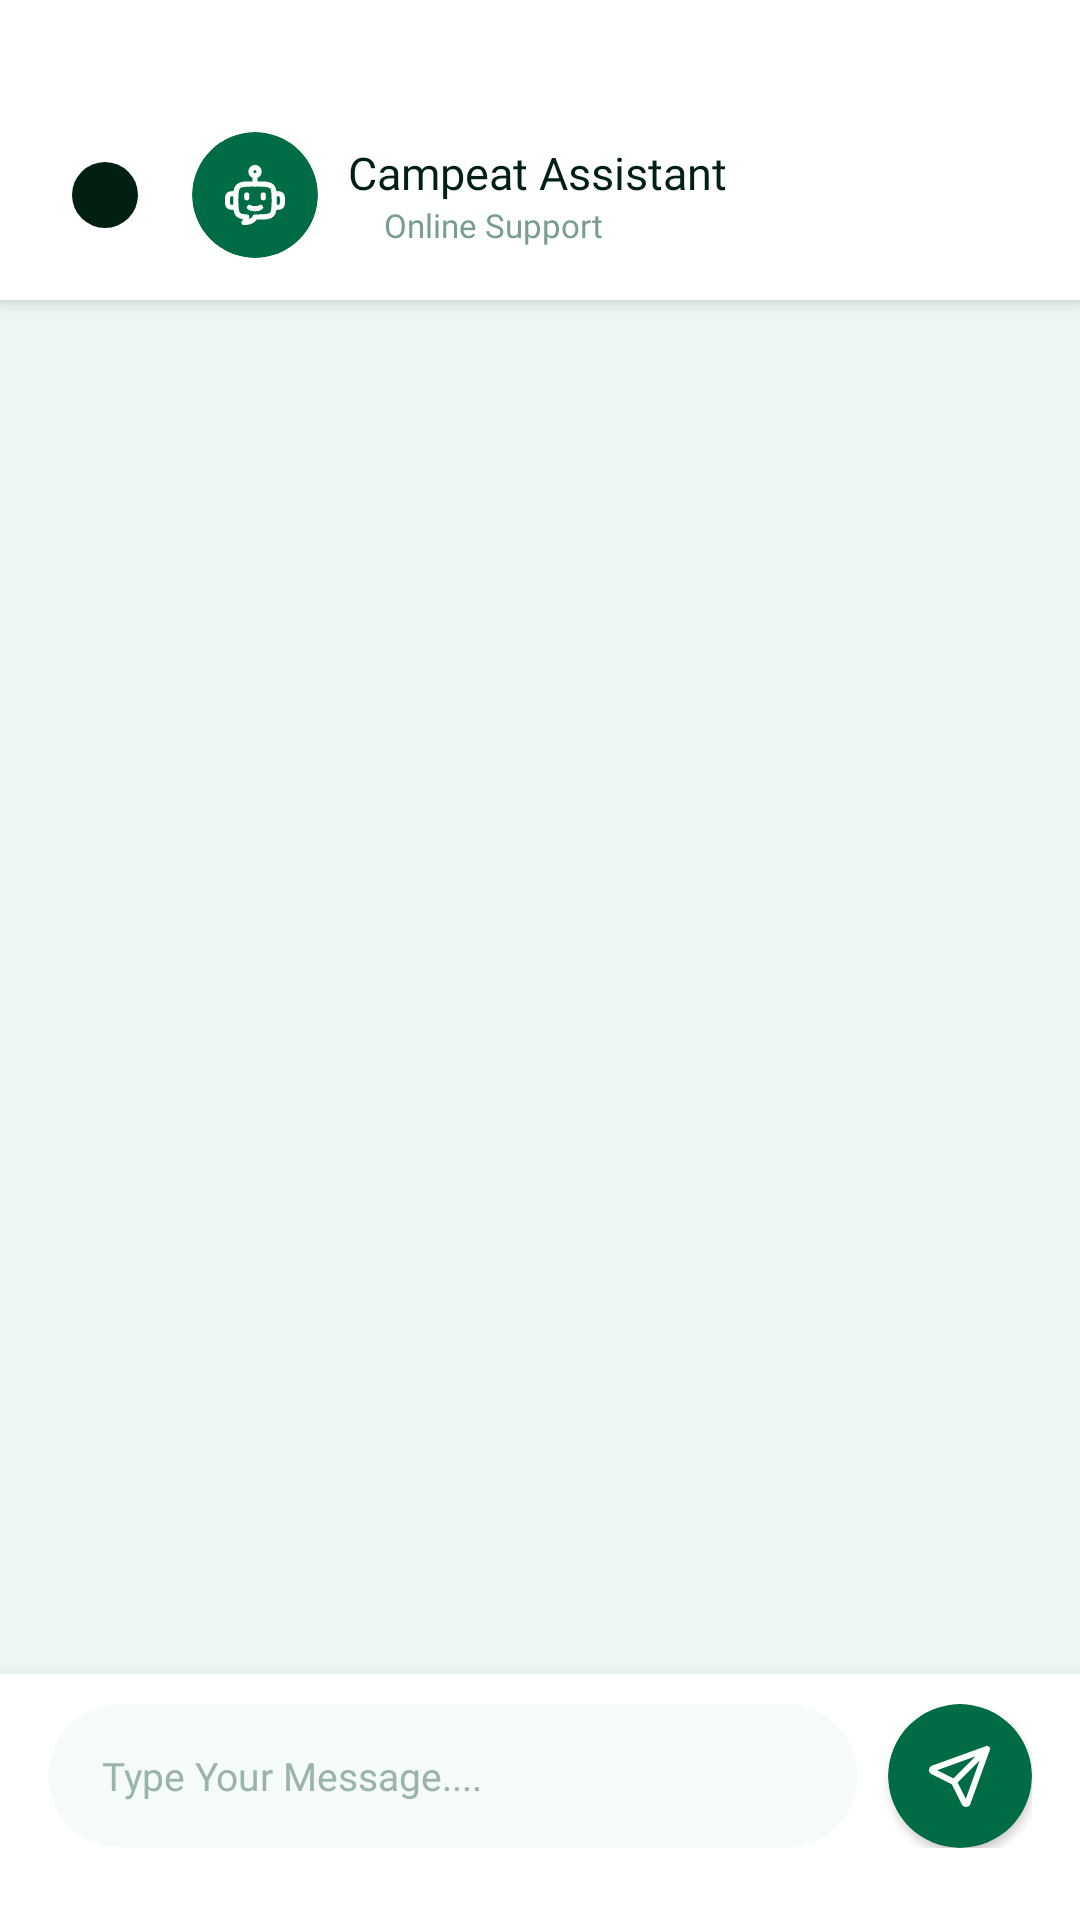

Named icons in this screenshot (1080 × 1920) and their bounding boxes, box=[x1, y1, x2, y2]:
bot: box=[192, 132, 318, 258]
send: box=[888, 1704, 1032, 1848]
